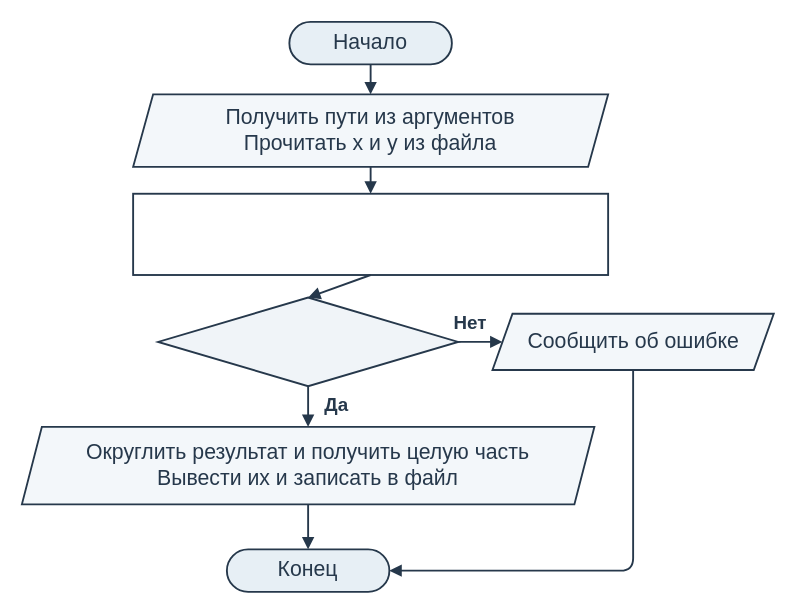
Image size: 796x615. Some labels were removed from this diagram. The centre of each missing label's shape, as x and y in pixels:
"Вызвать calculate(x, y) и вычислить формулу варианта" belongs at point 370,233.
"Расчёт выполнен?" belongs at point 307,341.
